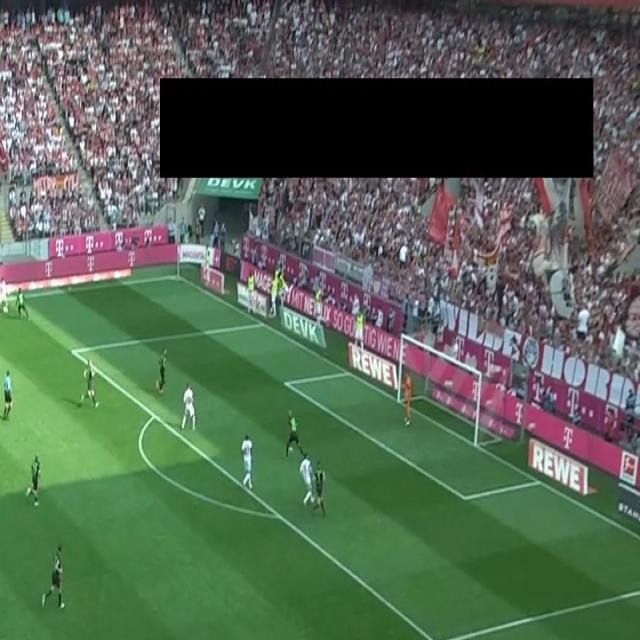ball: (3, 304, 7, 314)
